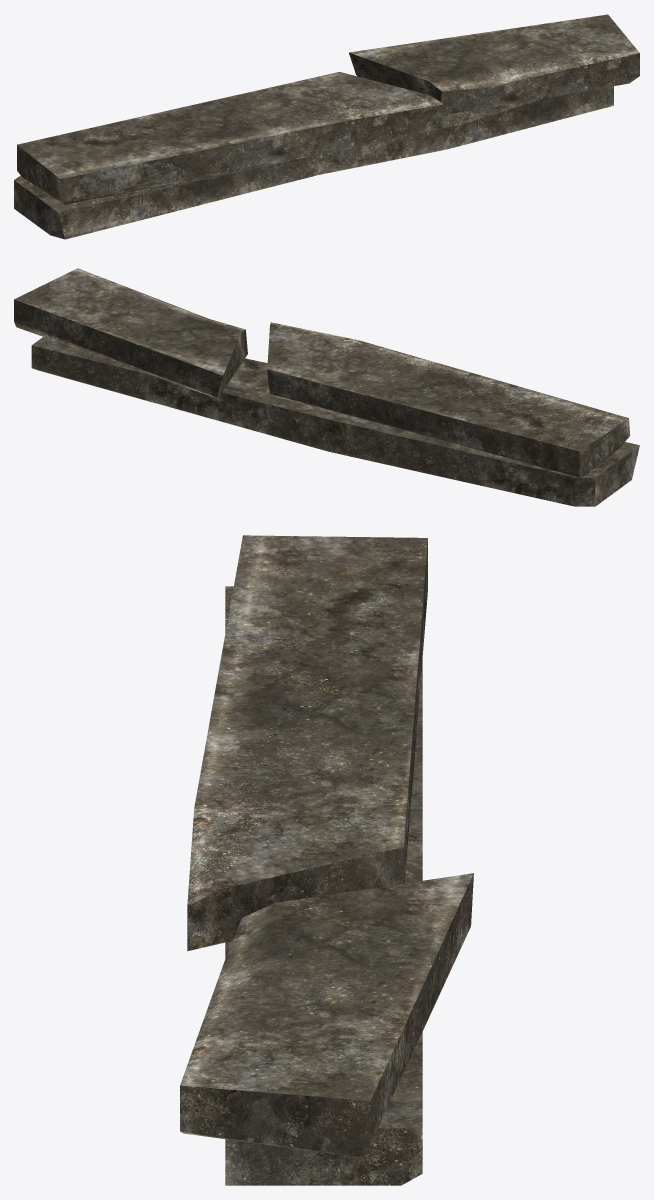
File: Ruins_22D.fbx
The picture shows the model from 3 angles, top to bottom: view 1: azimuth 30°, elevation 25°; view 2: azimuth 150°, elevation 25°; view 3: azimuth 270°, elevation 25°; orthographic projection. The views are drawn at different scales.
Parts seen in each view (by area): view 1: polySurface3833; view 2: polySurface3833; view 3: polySurface3833.
Boxes of the visible parts, left/top/right/bottom form: polySurface3833: left=14, top=14, right=639, bottom=239; polySurface3833: left=14, top=268, right=639, bottom=506; polySurface3833: left=180, top=535, right=473, bottom=1185.
Size of the model in its own units: 4.73 by 0.4809 by 1.03.
Materials: 1 (1 with a texture image).
